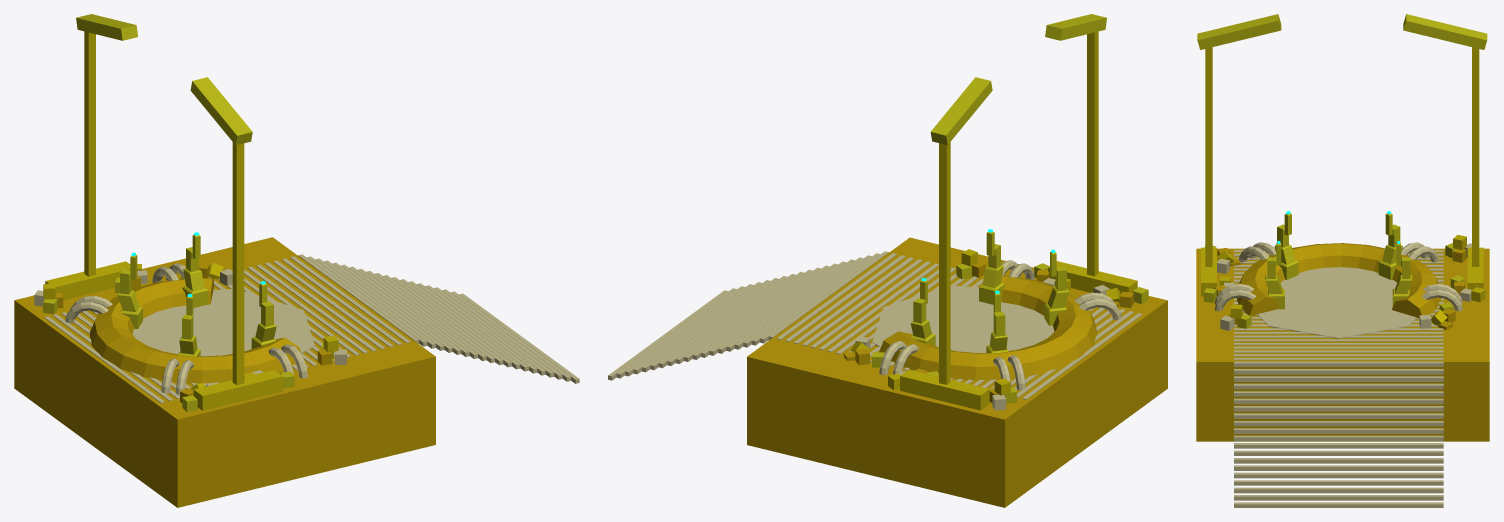
3 views of the same model, side by side, from view 1: azimuth 30°, elevation 25°; view 2: azimuth 150°, elevation 25°; view 3: azimuth 270°, elevation 25° (orthographic). The views are drawn at different scales.
Visible parts, largest first — view 1: spawnpt; view 2: spawnpt; view 3: spawnpt.
Part boxes in pixels (bbox=[...]): spawnpt: bbox=[14, 14, 579, 507]; spawnpt: bbox=[608, 14, 1167, 507]; spawnpt: bbox=[1196, 14, 1489, 507].
Size of the model in its own units: 10.48 by 8.97 by 7.
